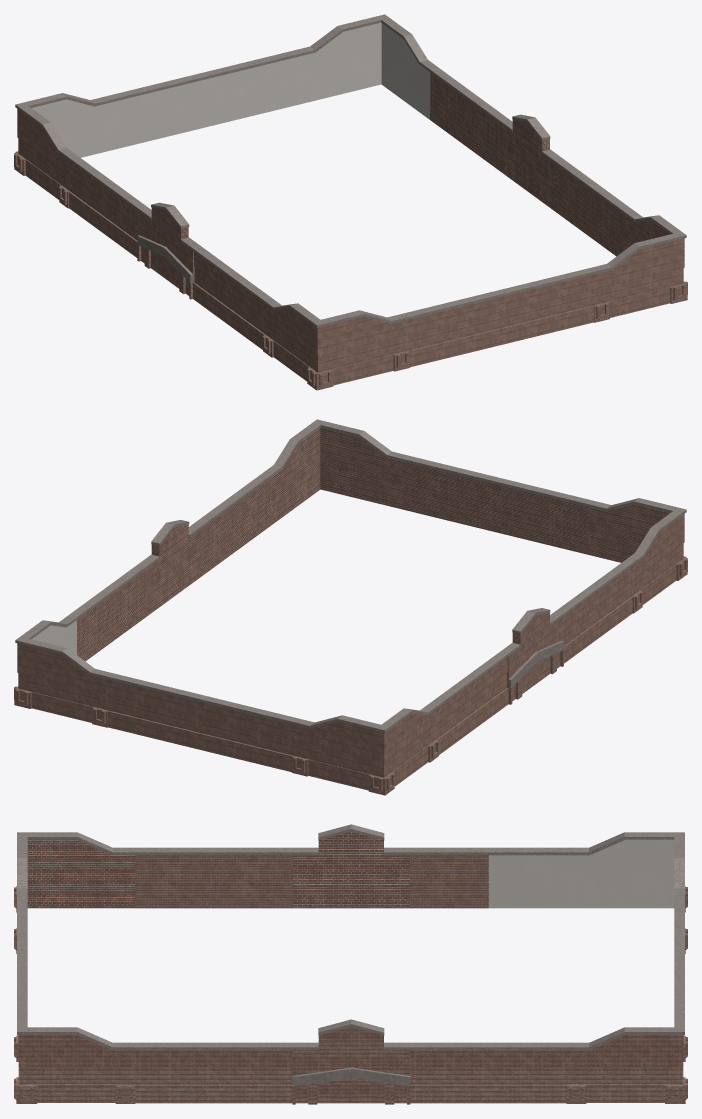
Rendered from BuildingB_Top_VarB.fbx.
The picture shows the model from 3 angles, top to bottom: view 1: azimuth 30°, elevation 25°; view 2: azimuth 150°, elevation 25°; view 3: azimuth 270°, elevation 25°; orthographic projection. The views are drawn at different scales.
Parts seen in each view (by area): view 1: BuildingB_Top_VarB; view 2: BuildingB_Top_VarB; view 3: BuildingB_Top_VarB.
Boxes of the visible parts, bbox=[...] form: BuildingB_Top_VarB: bbox=[14, 14, 687, 390]; BuildingB_Top_VarB: bbox=[14, 419, 687, 795]; BuildingB_Top_VarB: bbox=[14, 824, 687, 1104].
Bounding box in the file's own units: 2436 × 448 × 3432.
